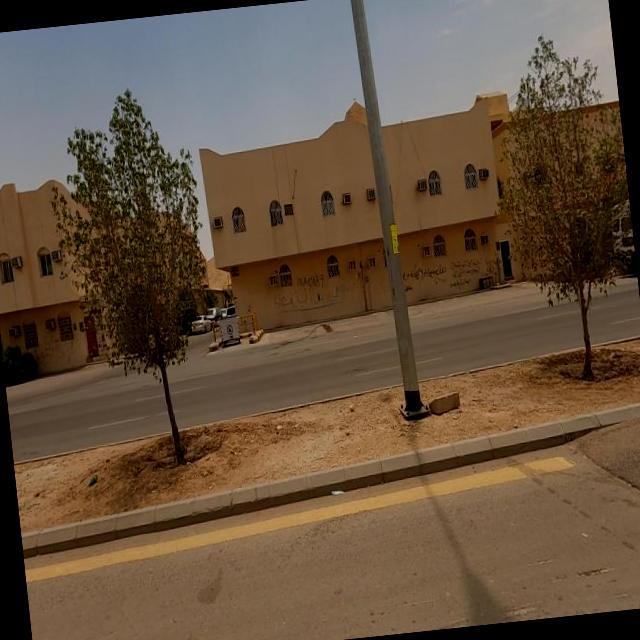debris: (238, 219, 374, 352), (359, 208, 482, 346), (423, 211, 516, 326), (12, 310, 88, 390), (300, 466, 370, 527)
